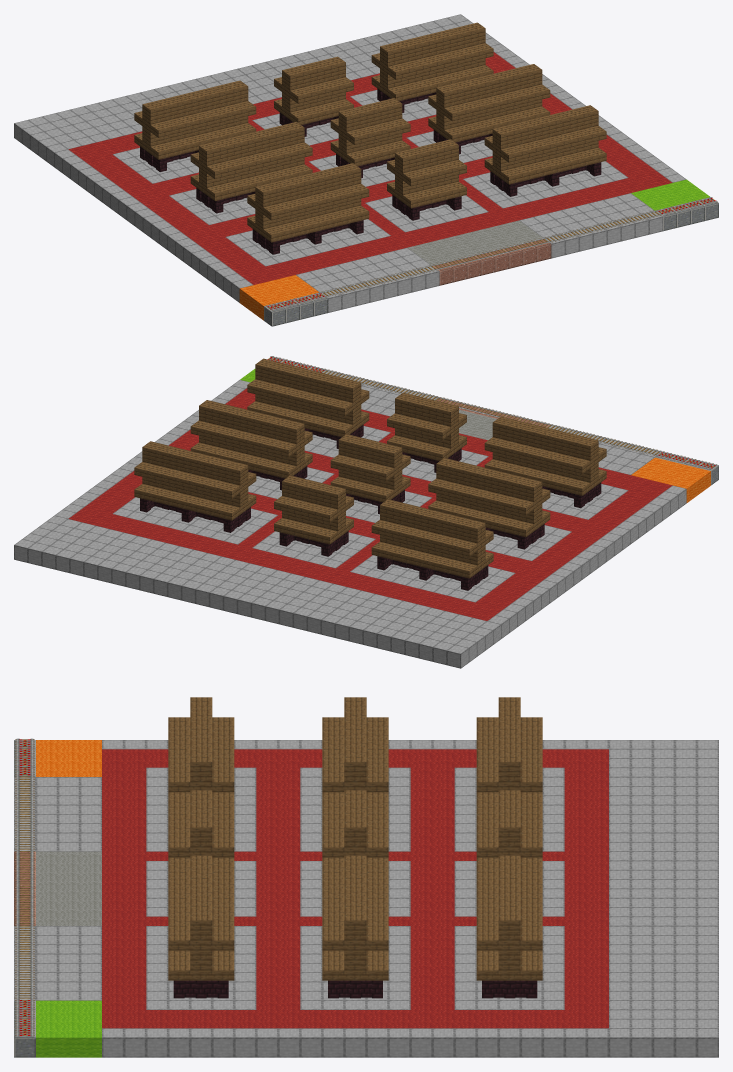
Rendered from Warehouse.obj.
The picture shows the model from 3 angles, top to bottom: view 1: azimuth 30°, elevation 25°; view 2: azimuth 150°, elevation 25°; view 3: azimuth 270°, elevation 25°; orthographic projection. The views are drawn at different scales.
Visible parts, largest first — view 1: Smooth_Stone, Oak_Slab, Wool, Oak_Planks, Double_Oak_Slab, Cobblestone_Wall, Stone, Rail, Activator_Rail; view 2: Smooth_Stone, Oak_Slab, Oak_Planks, Wool, Double_Oak_Slab, Cobblestone_Wall, Rail, Stone, Activator_Rail; view 3: Smooth_Stone, Wool, Oak_Slab, Oak_Planks, Double_Oak_Slab, Rail, Cobblestone_Wall, Stone, Activator_Rail.
Part boxes in pixels (x1,y1,x2,y2): Smooth_Stone: (14,14,686,312); Oak_Slab: (134,43,606,242); Wool: (68,52,709,320); Oak_Planks: (142,22,542,236); Double_Oak_Slab: (395,105,598,202); Cobblestone_Wall: (140,88,601,254); Stone: (264,198,718,326); Rail: (321,210,661,296); Activator_Rail: (265,197,717,310); Smooth_Stone: (14,371,686,668); Oak_Slab: (134,379,606,578); Oak_Planks: (142,400,598,572); Wool: (68,369,710,620); Double_Oak_Slab: (255,358,458,455); Cobblestone_Wall: (140,424,601,590); Rail: (323,369,661,455); Stone: (269,357,718,485); Activator_Rail: (267,356,717,469); Smooth_Stone: (14,740,718,1057); Wool: (36,740,608,1057); Oak_Slab: (168,717,542,980); Oak_Planks: (190,697,520,980); Double_Oak_Slab: (190,790,212,980); Rail: (15,776,34,999); Cobblestone_Wall: (173,980,537,998); Stone: (14,740,35,1057); Activator_Rail: (15,738,34,1036).
Bounding box in the file's own units: 0.064 × 0.01 × 0.064.
9 materials, 9 textured.
